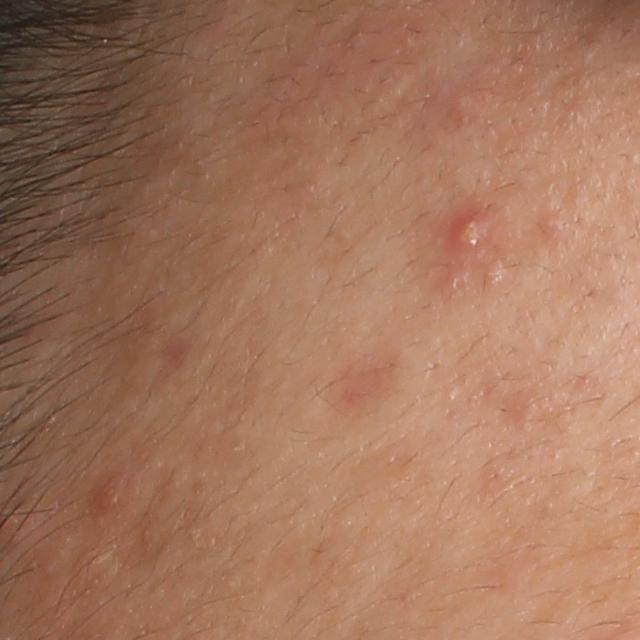papule: (93, 475, 129, 510)
pustule: (448, 211, 495, 255)
